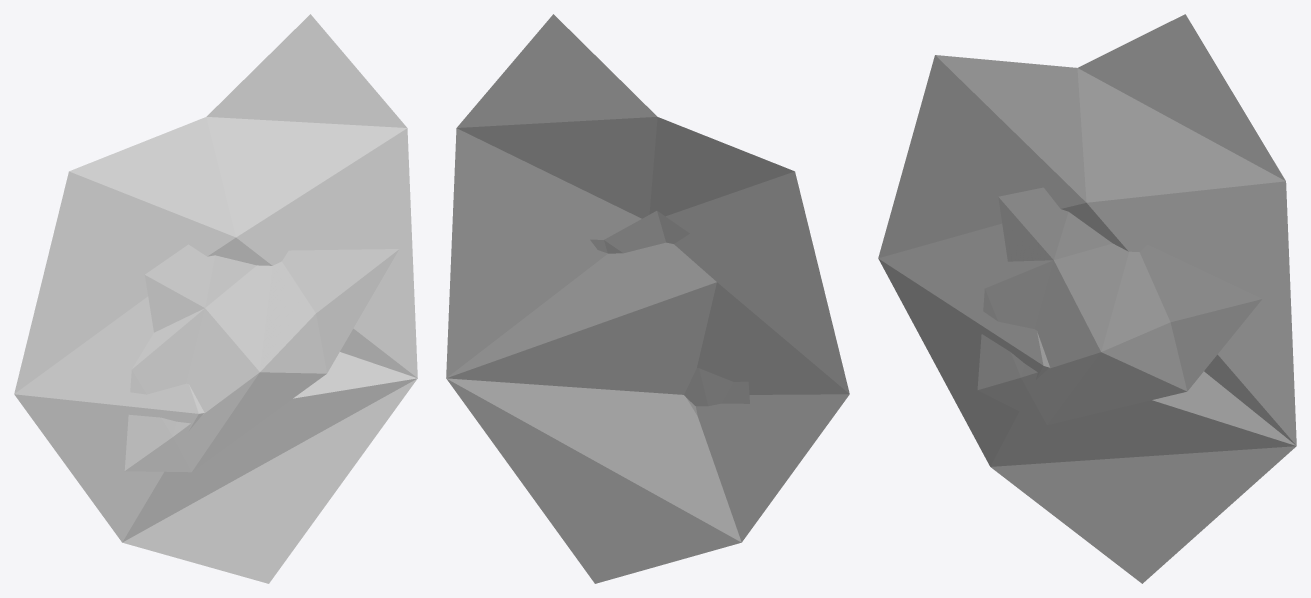
Rendered from SM_Env_Ivy_Flowers_04.glb.
The picture shows the model from 3 angles, left to right: view 1: azimuth 30°, elevation 25°; view 2: azimuth 150°, elevation 25°; view 3: azimuth 330°, elevation 25°; orthographic projection. The views are drawn at different scales.
Parts seen in each view (by area): view 1: SM_Env_Ivy_Flowers_04; view 2: SM_Env_Ivy_Flowers_04; view 3: SM_Env_Ivy_Flowers_04.
Part boxes in pixels (x1,y1,x2,y2): SM_Env_Ivy_Flowers_04: (14, 14, 417, 583); SM_Env_Ivy_Flowers_04: (446, 14, 849, 583); SM_Env_Ivy_Flowers_04: (878, 14, 1296, 583).
Size of the model in its own units: 1.17 by 1.55 by 0.0769.
Materials: 1 (1 with a texture image).
